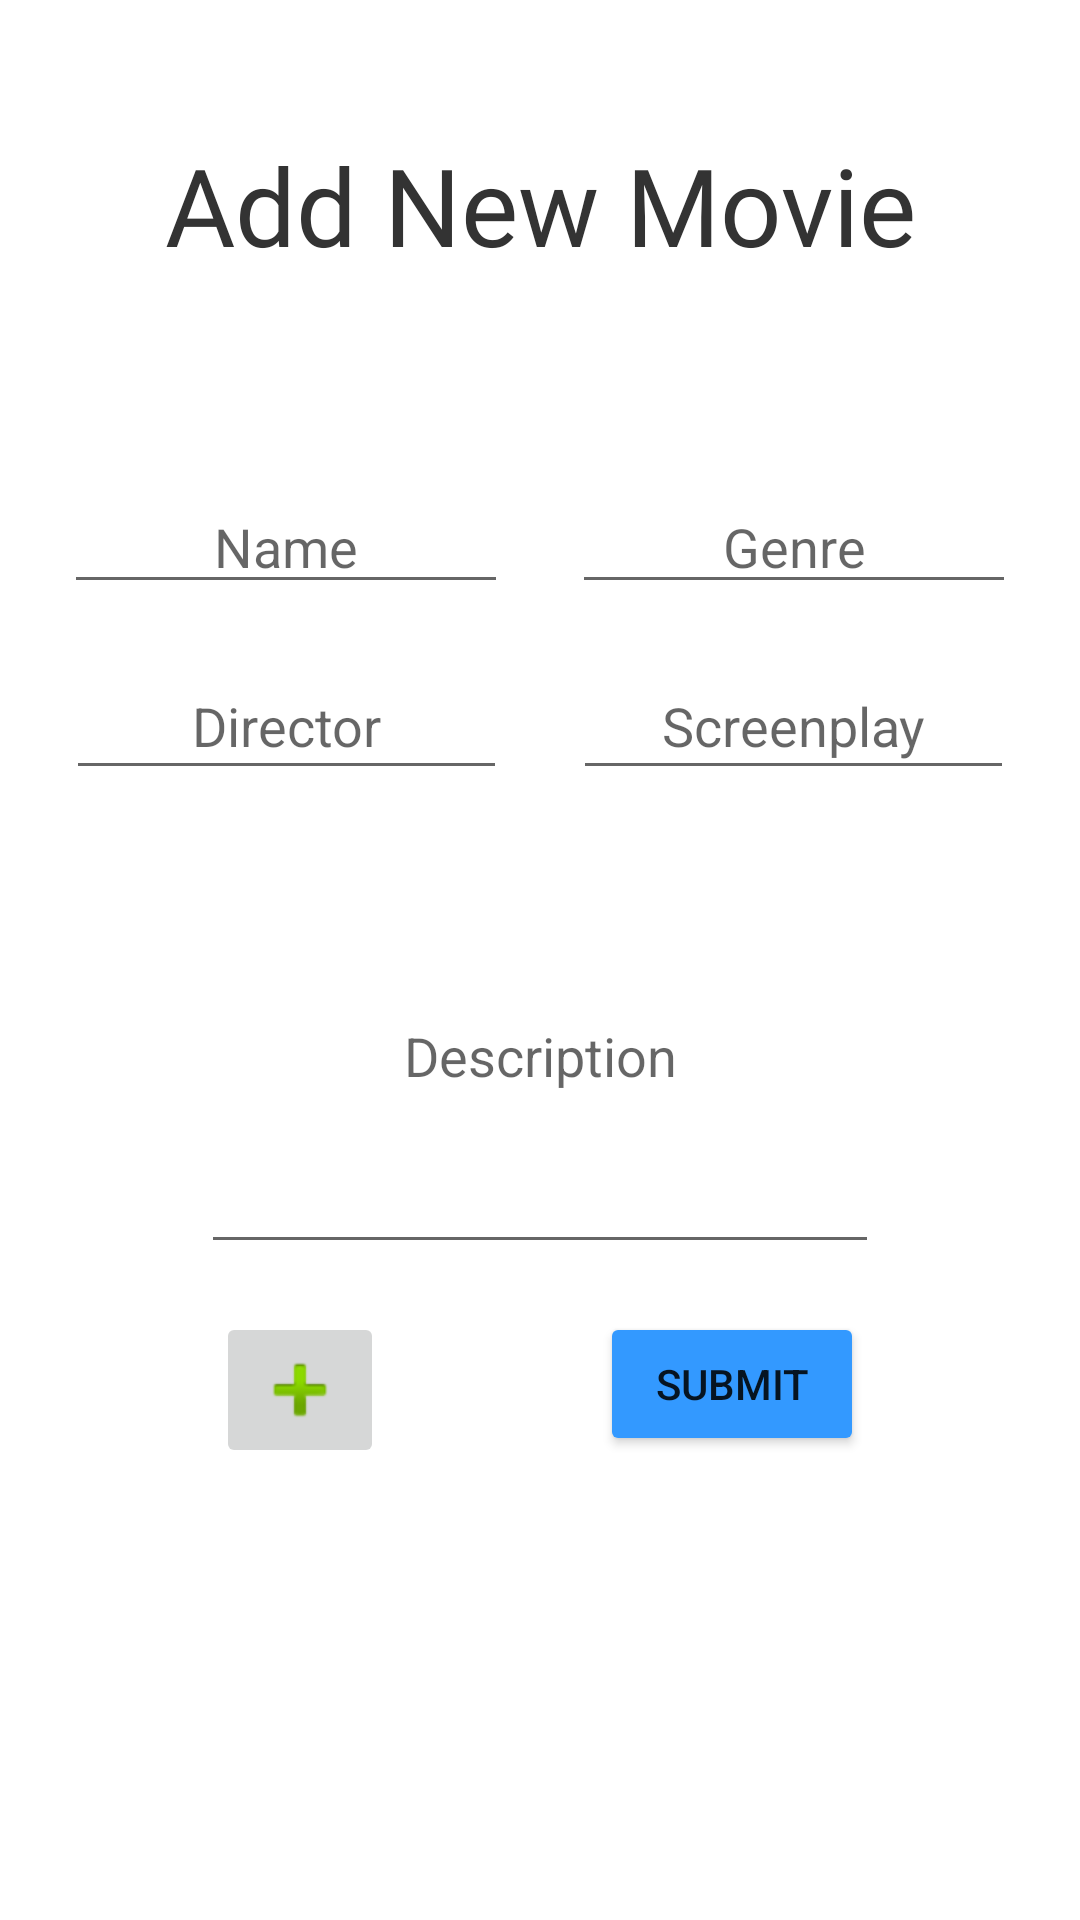

Named icons in this screenshot (1080w x 1920h) and their bounding boxes, (x1, y1, x2, y2):
add: (228, 1330, 372, 1450)
